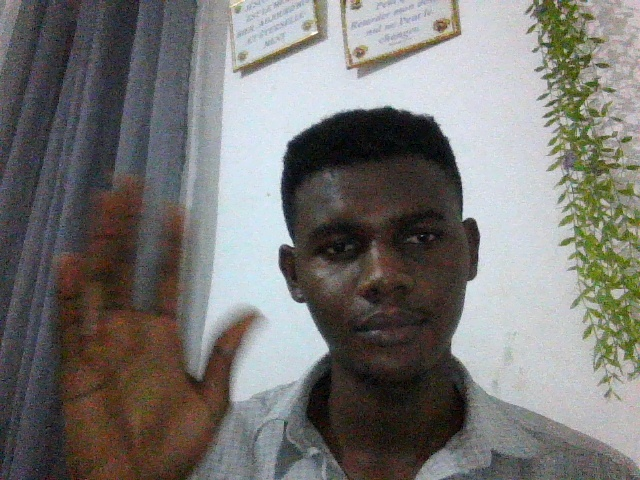hand: (38, 177, 262, 473)
